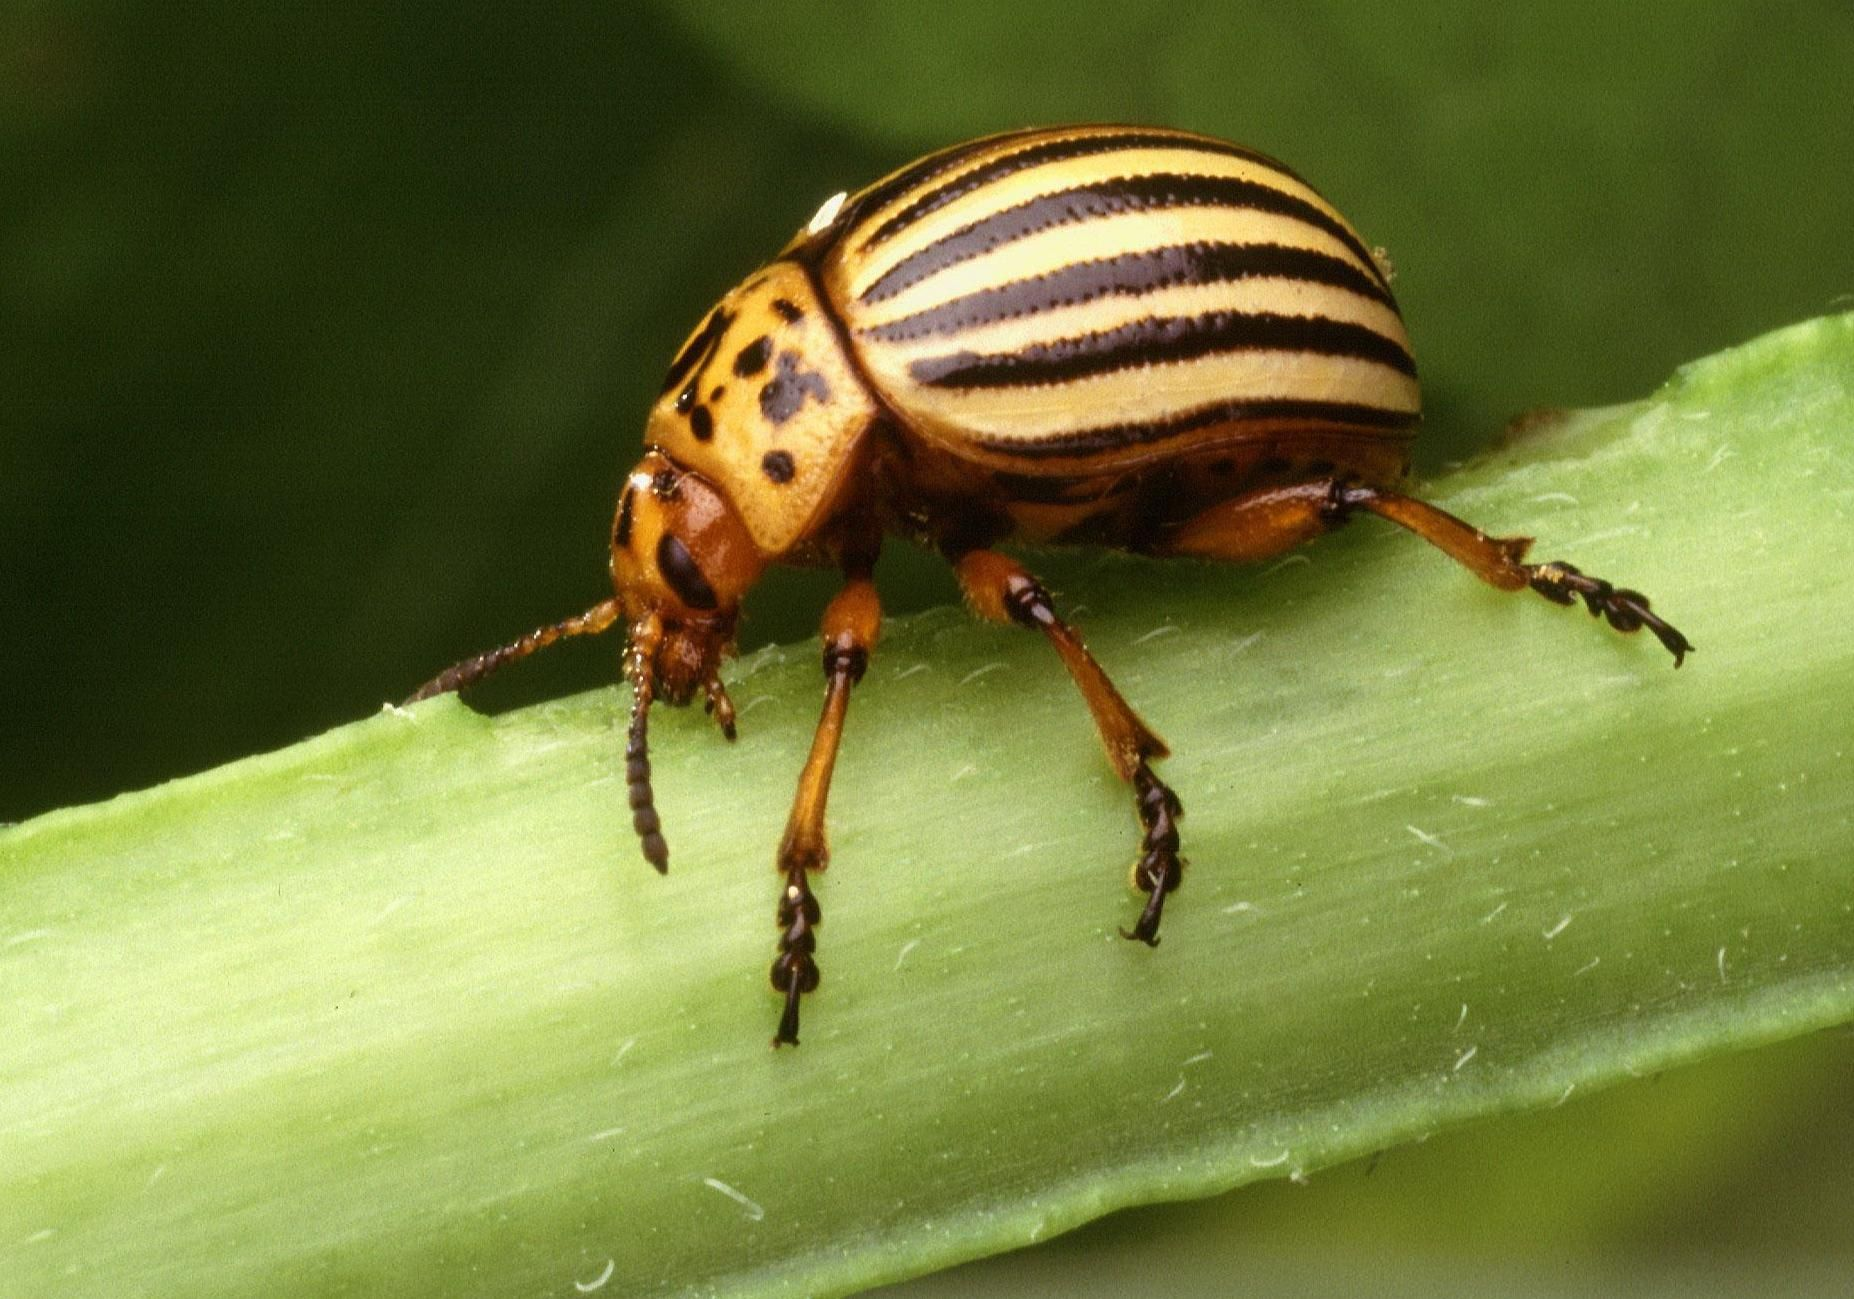Colorado Potato Beetle: (387, 104, 1716, 1058)
